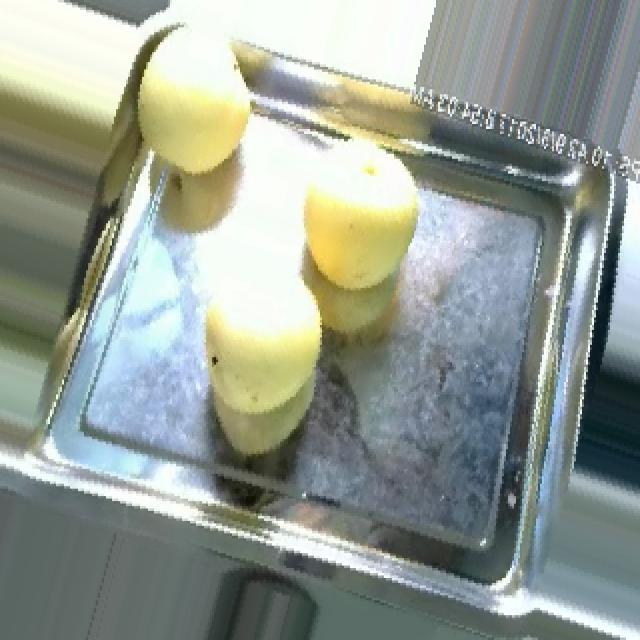Fruit: (170, 276, 352, 477), (110, 15, 274, 198), (280, 151, 442, 308)
